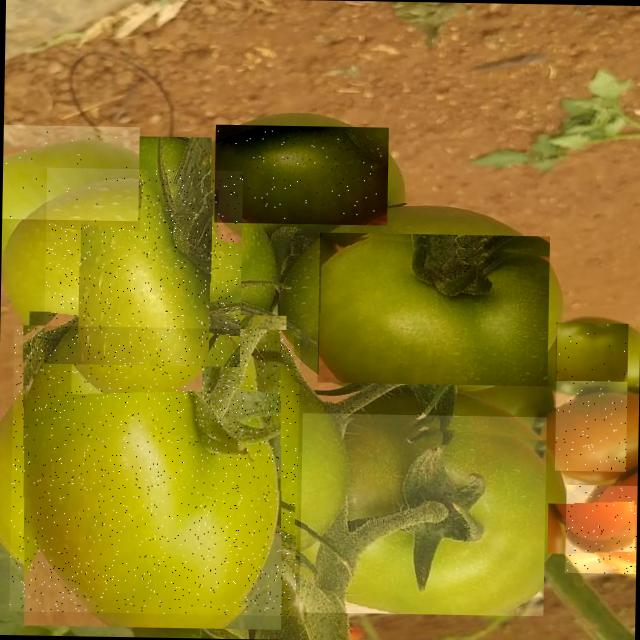Ripe Tomato: (564, 484, 638, 574), (554, 380, 627, 471)
Unripe Tomato: (9, 324, 300, 616), (299, 413, 546, 616), (44, 168, 242, 366), (316, 232, 550, 386), (214, 124, 388, 225), (1, 124, 140, 220), (555, 322, 628, 381)
